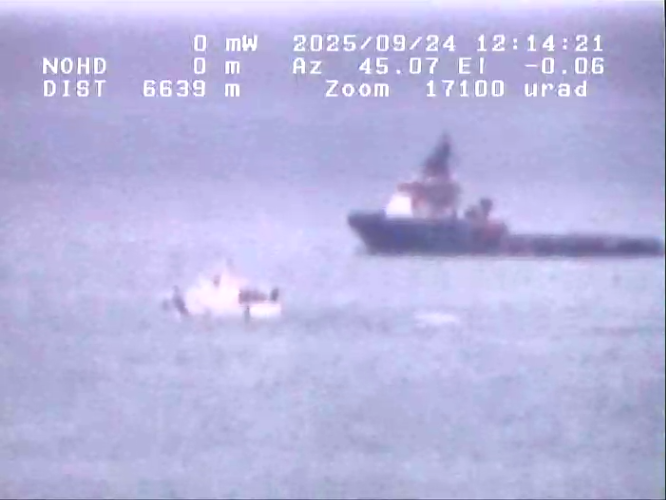OFFSHORE_SUPPLY_VESSEL: (334, 106, 666, 269)
PATROL_VESSEL: (147, 243, 302, 333)
